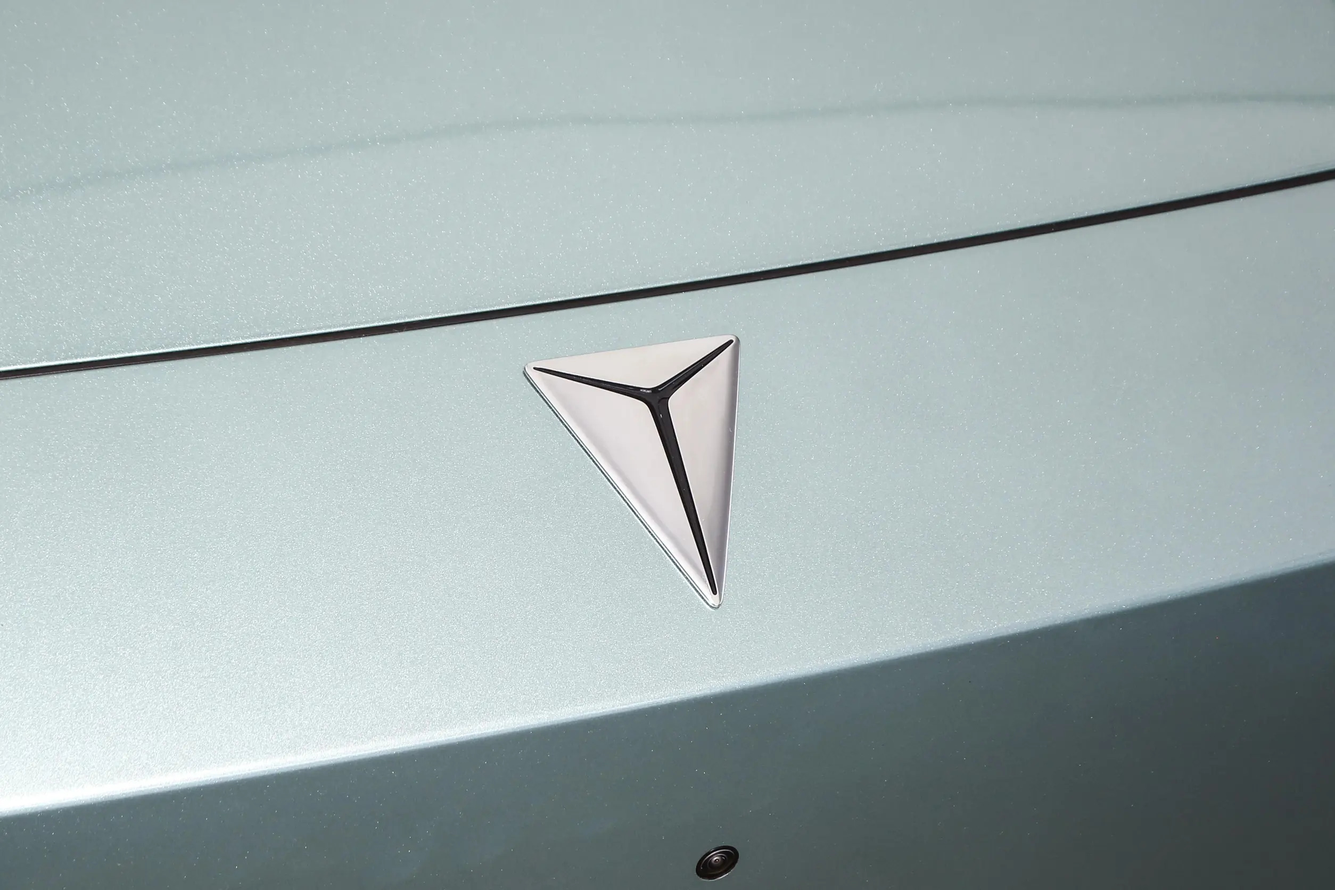Deepal: (524, 335, 738, 610)
